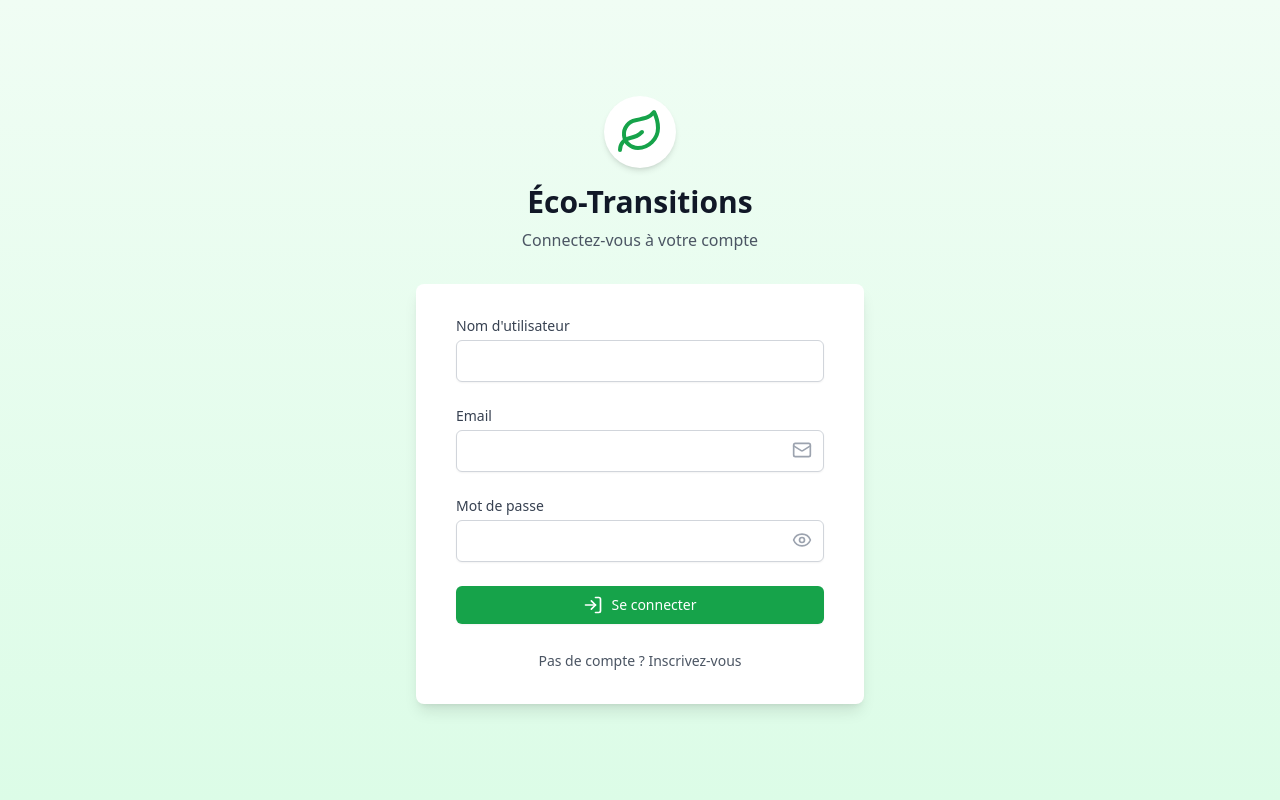
it: Peut basculer entre connexion et inscription
The image size is (1280, 800).
Step 1. Click the button "Pas de compte ? Inscrivez-vous" → (640, 661), box [456,651,824,671]
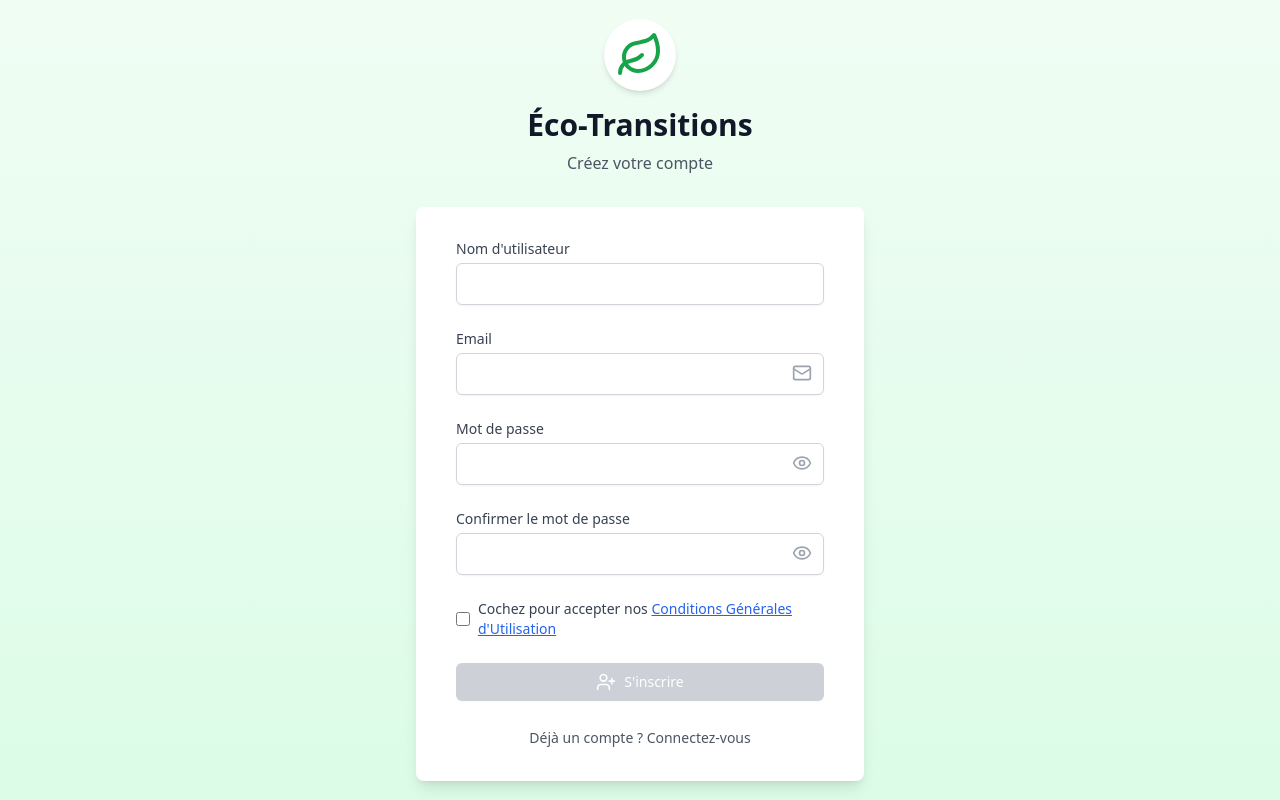
Check: the text "Créez votre compte" is shown, box [567,152,713,174]
Check: the password field labelled "Confirmer le mot de passe" is shown, box [456,533,824,575]
